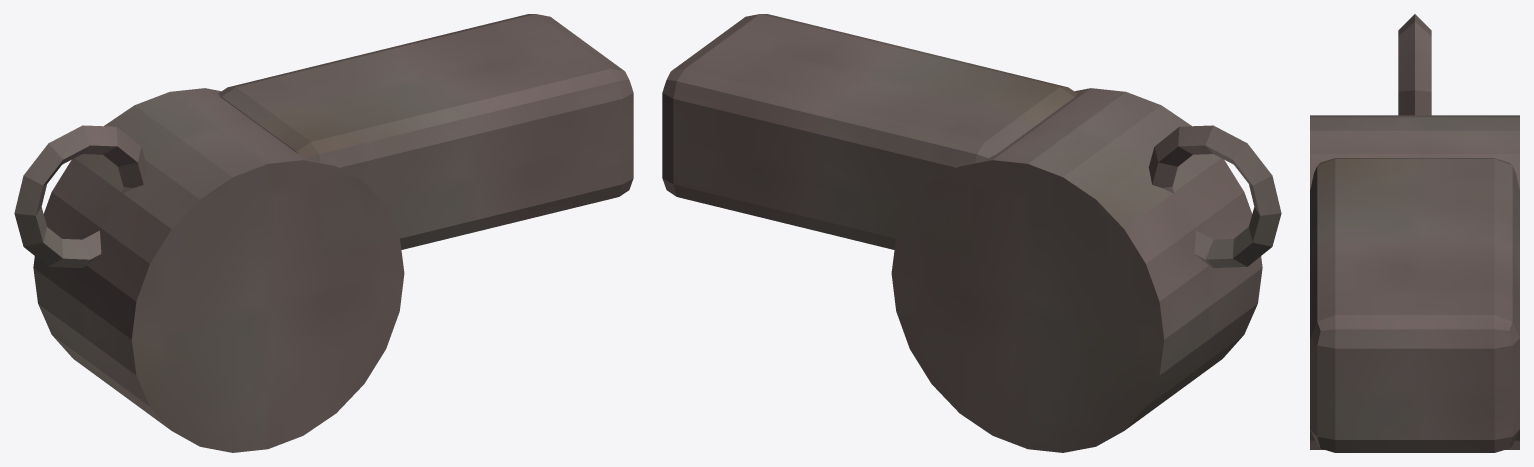
The model's file is TY36_WhistleToy.glb.
The picture shows the model from 3 angles, left to right: view 1: azimuth 30°, elevation 25°; view 2: azimuth 150°, elevation 25°; view 3: azimuth 270°, elevation 25°; orthographic projection. The views are drawn at different scales.
Parts seen in each view (by area): view 1: TY36_WhistleToy; view 2: TY36_WhistleToy; view 3: TY36_WhistleToy.
Part boxes in pixels (x1,y1,x2,y2): TY36_WhistleToy: (14, 14, 633, 452); TY36_WhistleToy: (662, 14, 1281, 452); TY36_WhistleToy: (1310, 14, 1519, 452).
Size of the model in its own units: 0.1 by 0.0529 by 0.0294.
1 material, 1 textured.
